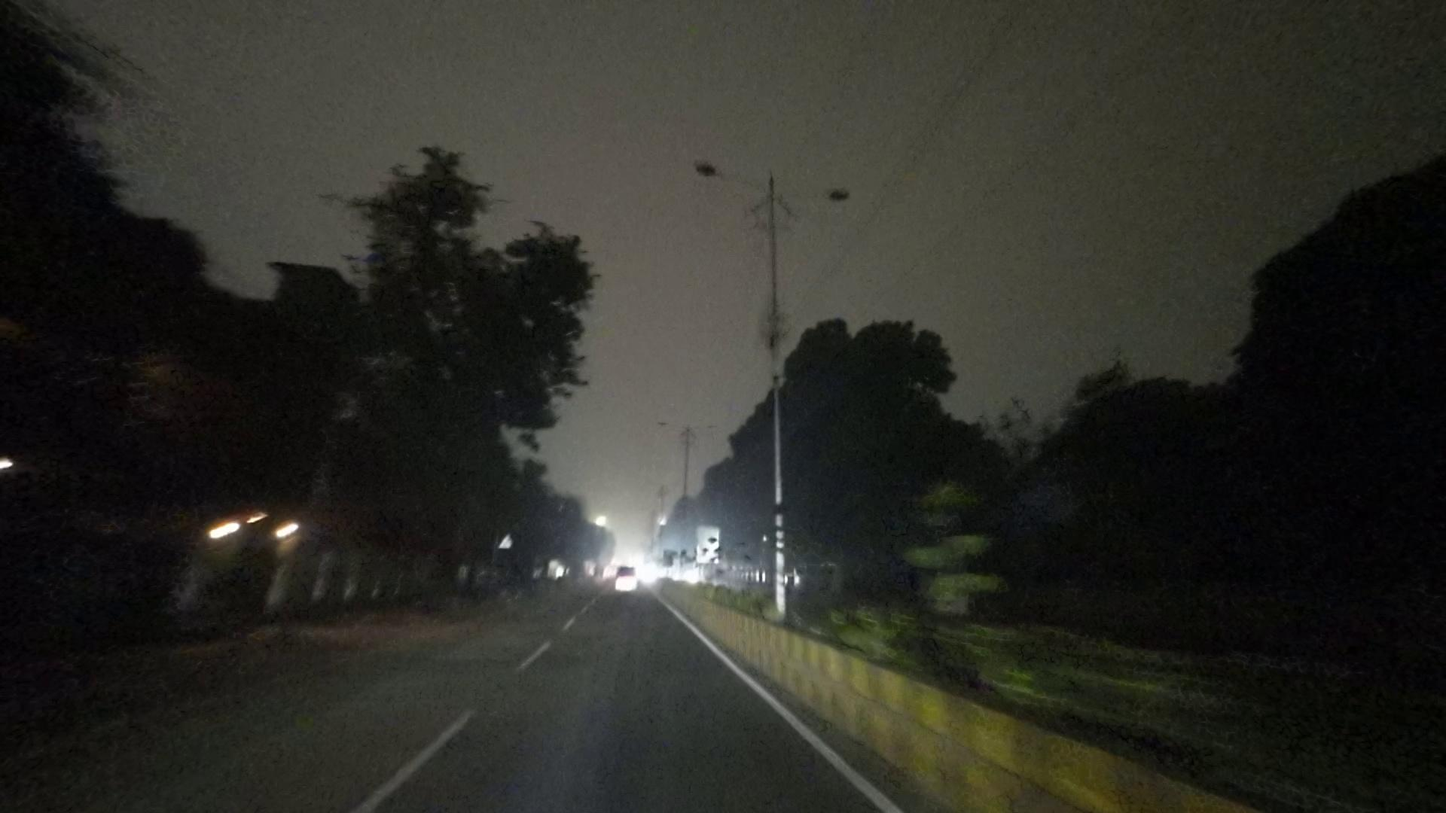streetlight: (686, 153, 767, 191), (783, 179, 855, 208)
